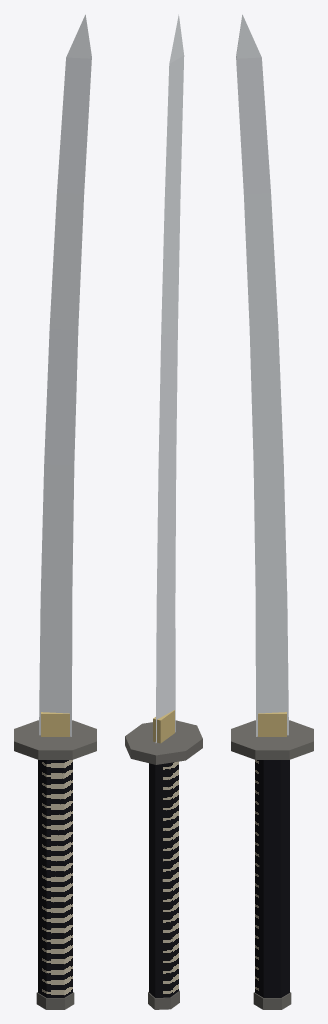
File: katana.glb
3 views of the same model, side by side, from view 1: azimuth 90°, elevation 25°; view 2: azimuth 150°, elevation 25°; view 3: azimuth 270°, elevation 25° (orthographic).
Visible parts, largest first — view 1: Katana; view 2: Katana; view 3: Katana.
Part boxes in pixels (box(x1,y1,x2,y2)): Katana: box(14, 14, 96, 1009); Katana: box(125, 14, 202, 1009); Katana: box(231, 14, 313, 1009).
Bounding box in the file's own units: 0.0665 × 1.02 × 0.0776.
4 materials, 1 textured.
